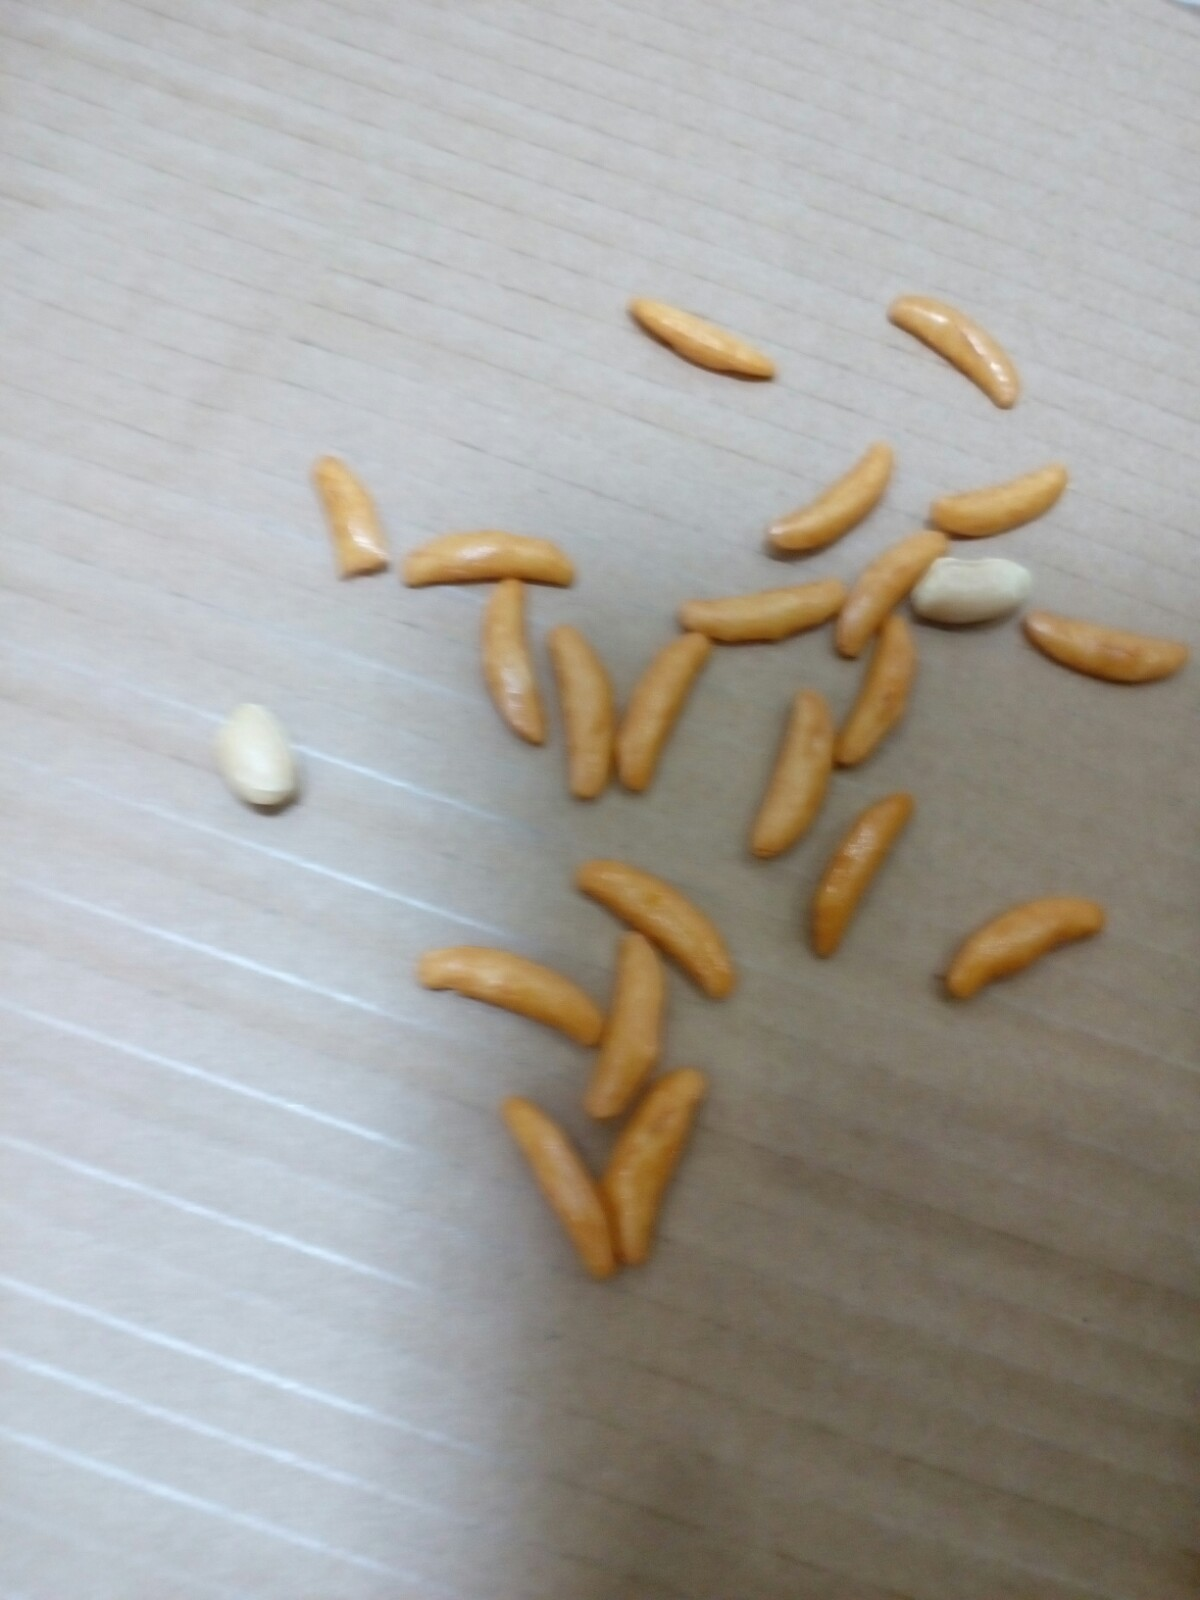peanut: (200, 680, 296, 825), (911, 544, 1039, 631)
